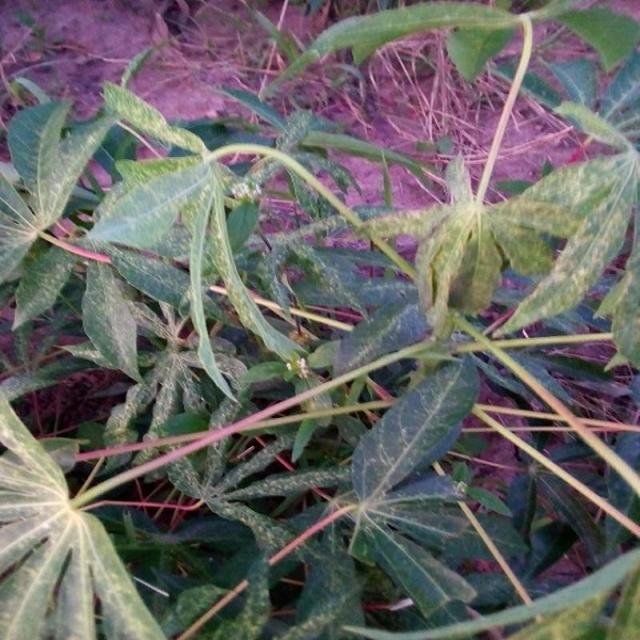cassava leaf: (2, 1, 639, 638), (2, 387, 170, 638), (351, 349, 482, 502)
